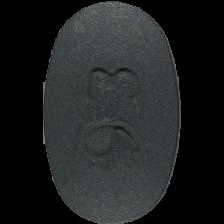54868-1852: (0, 0, 224, 224)
